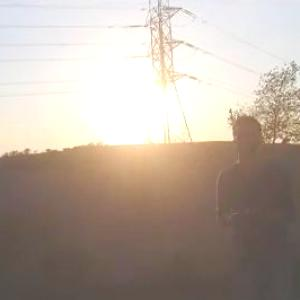follow: (212, 110, 299, 299)
